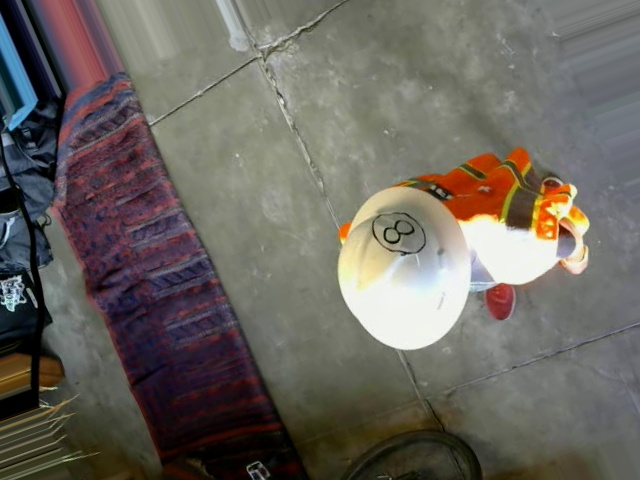eight: (367, 201, 431, 262)
